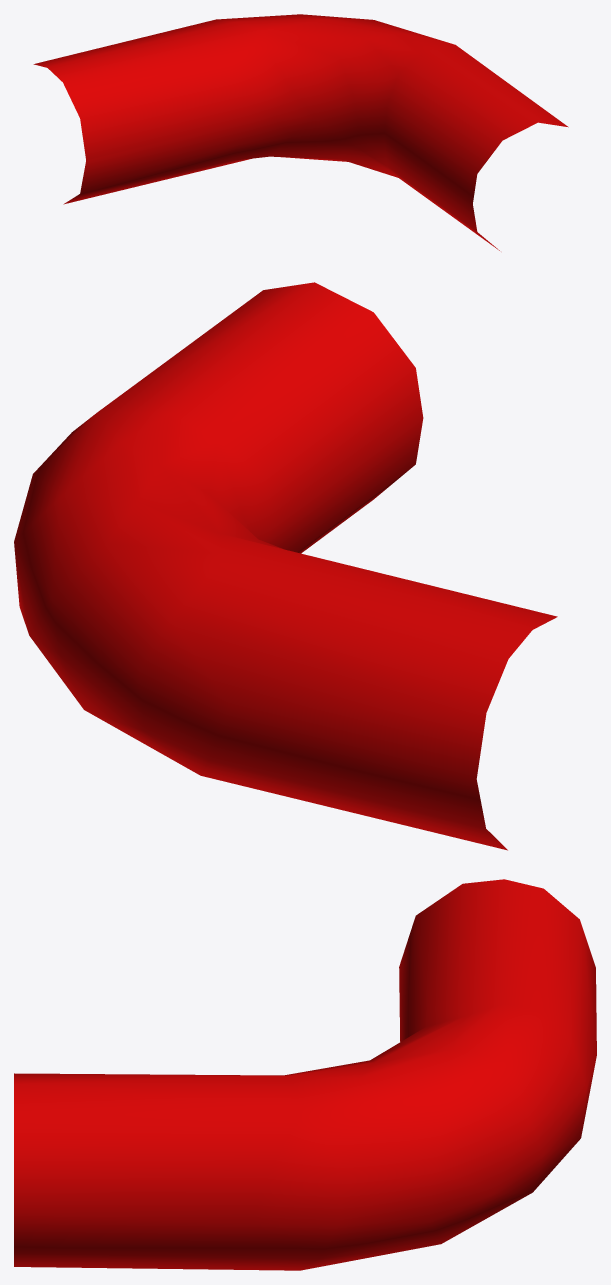
The picture shows the model from 3 angles, top to bottom: view 1: azimuth 30°, elevation 25°; view 2: azimuth 150°, elevation 25°; view 3: azimuth 270°, elevation 25°; orthographic projection. The views are drawn at different scales.
Parts seen in each view (by area): view 1: Mesh; view 2: Mesh; view 3: Mesh.
Boxes of the visible parts, x1=… form: Mesh: x1=33, y1=14, x2=568, y2=250; Mesh: x1=14, y1=282, x2=557, y2=850; Mesh: x1=14, y1=879, x2=596, y2=1270.
Bounding box in the file's own units: 2.41 × 0.8164 × 2.41.
